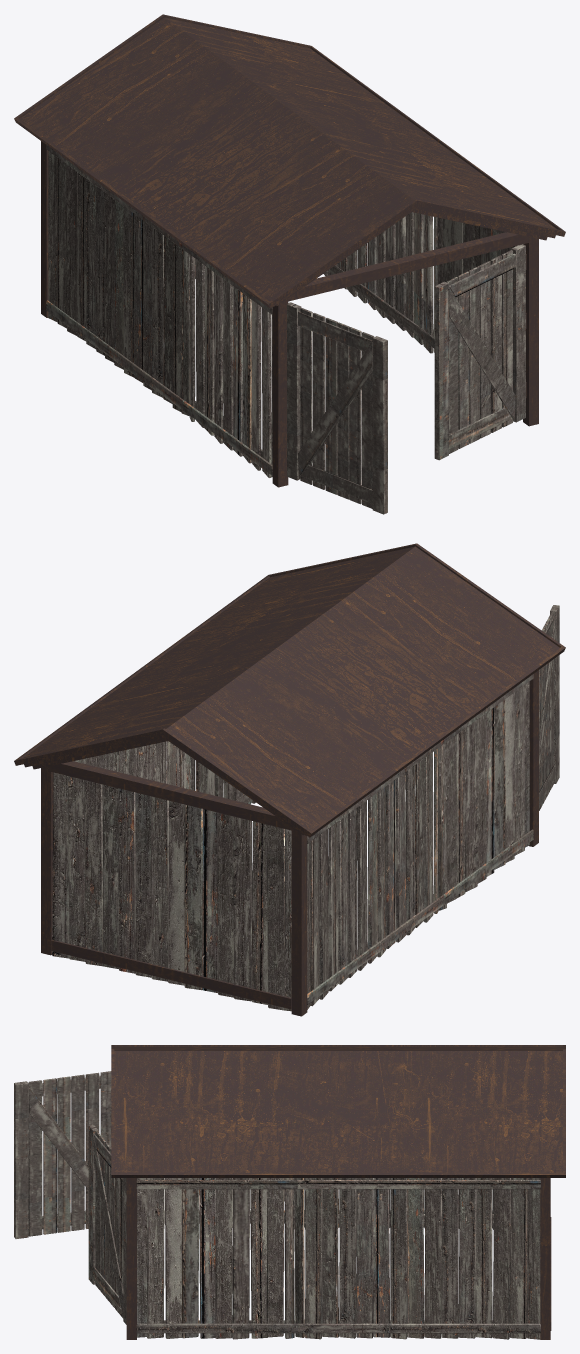
The model's file is farmhouse.glb.
3 views of the same model, one above another, from view 1: azimuth 30°, elevation 25°; view 2: azimuth 150°, elevation 25°; view 3: azimuth 270°, elevation 25° (orthographic). The views are drawn at different scales.
Parts seen in each view (by area): view 1: BASE, L, R; view 2: BASE, L; view 3: BASE, L, R.
Boxes of the visible parts, x1,y1,x2,y2 form: BASE: (14,14,565,487); L: (287,302,387,514); R: (434,244,526,460); BASE: (14,543,565,1016); L: (539,605,559,810); BASE: (111,1045,565,1339); L: (14,1071,111,1238); R: (88,1124,126,1324).
Bounding box in the file's own units: 5.94 × 5.01 × 10.67.
2 materials, 2 textured.
